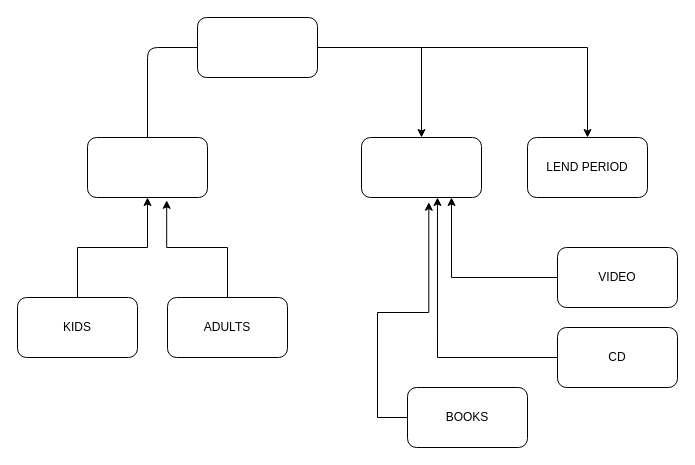
Some shapes in this 695 by 465 pixel diagram are drawn without their labels. The shapes that lost their labels are listed below. From the top down, each one's box as (x1, y1, x2, y2) in pixels, then its label:
(196, 16, 318, 78): LENDING RULES
(86, 136, 208, 198): USER
(360, 136, 482, 198): LIMITS TOTAL
